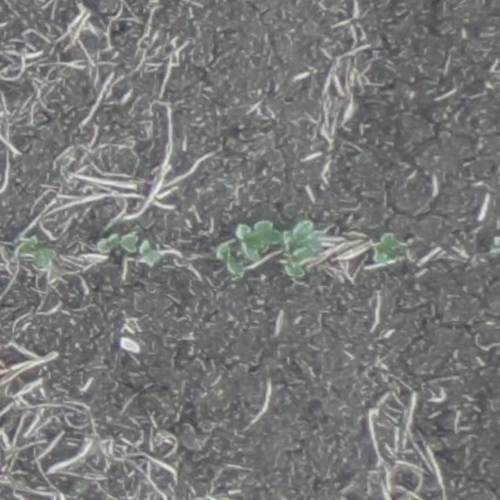plant: (216, 220, 320, 280), (17, 233, 52, 270), (370, 230, 399, 267), (98, 231, 136, 256), (138, 239, 158, 268)
